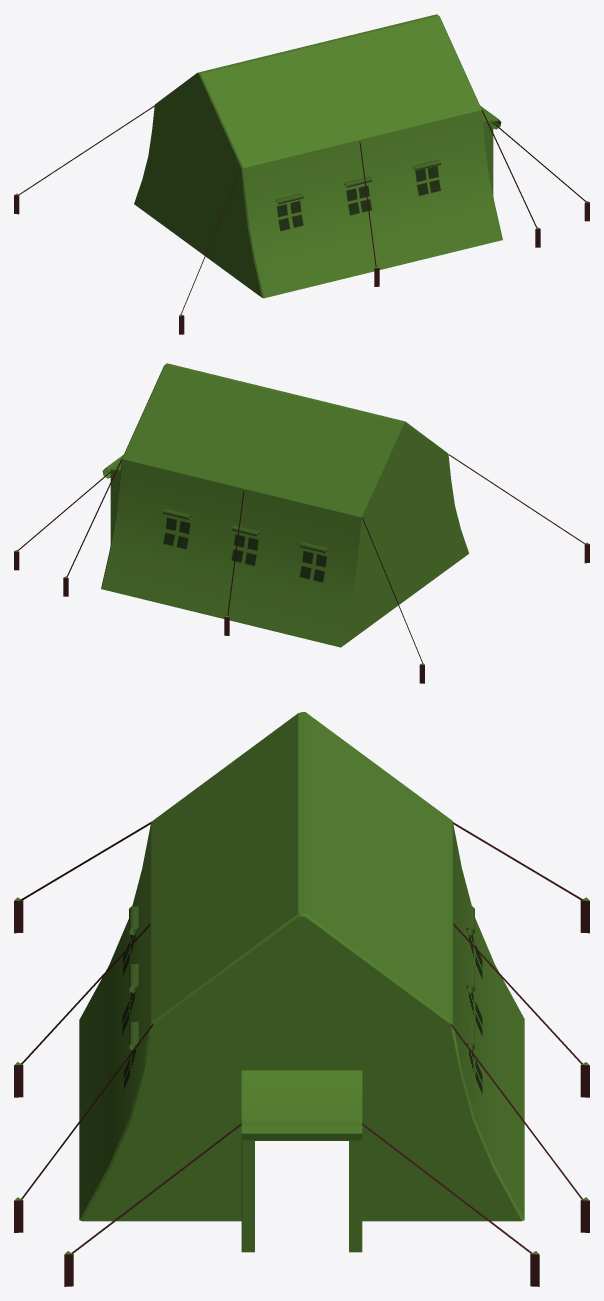
Rendered from Barrack_Age_5.fbx.
3 renders of one model, top to bottom at view 1: azimuth 30°, elevation 25°; view 2: azimuth 150°, elevation 25°; view 3: azimuth 270°, elevation 25°, orthographic. The views are drawn at different scales.
Visible parts, largest first — view 1: Barrack_Age_5; view 2: Barrack_Age_5; view 3: Barrack_Age_5.
Boxes of the visible parts, left/top/right/bottom form: Barrack_Age_5: left=14, top=14, right=589, bottom=334; Barrack_Age_5: left=14, top=363, right=589, bottom=683; Barrack_Age_5: left=14, top=712, right=589, bottom=1286.
Size of the model in its own units: 1039 by 416 by 708.
1 material, 1 textured.
